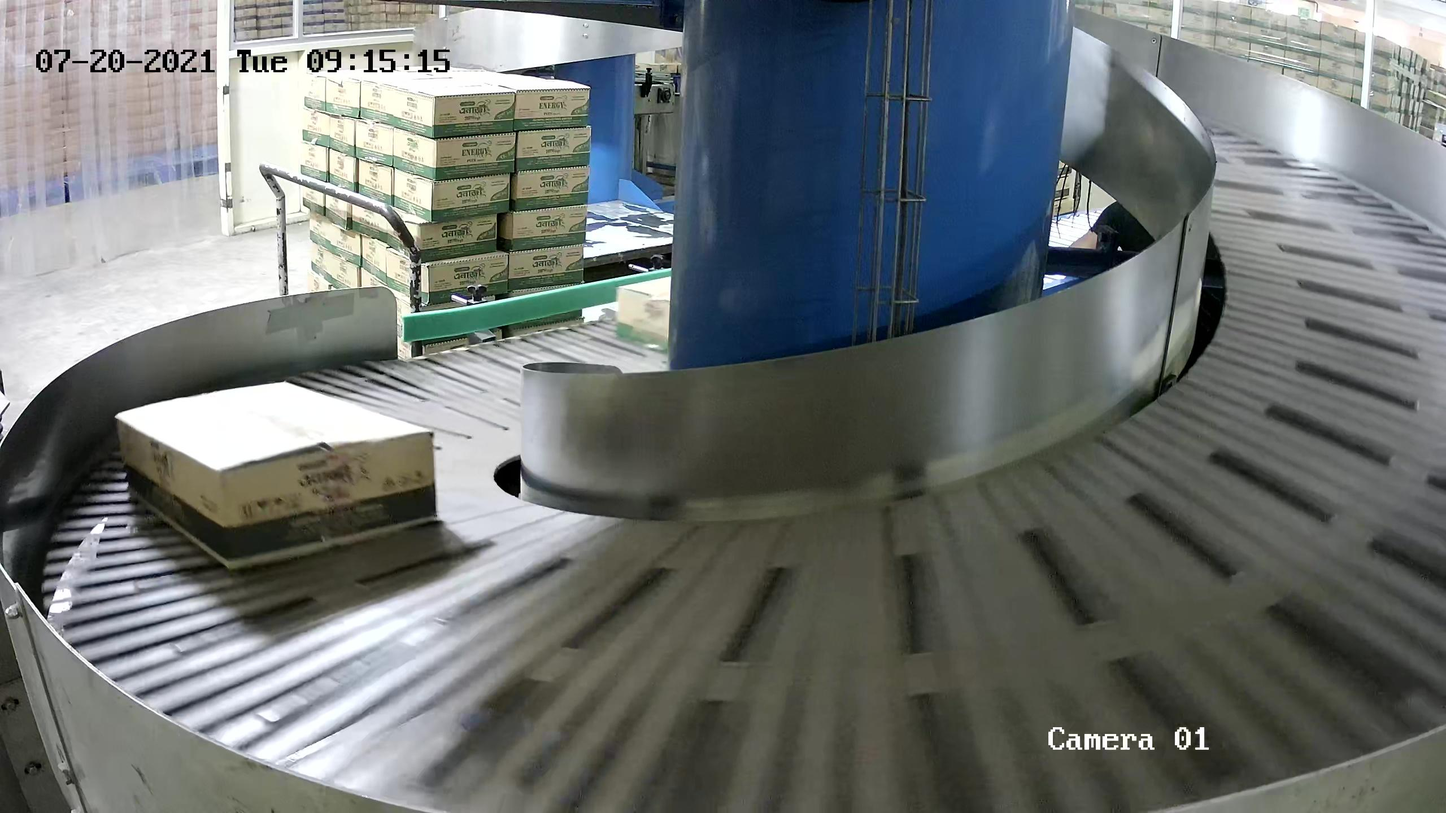Box: (112, 377, 439, 573), (615, 274, 672, 353)
